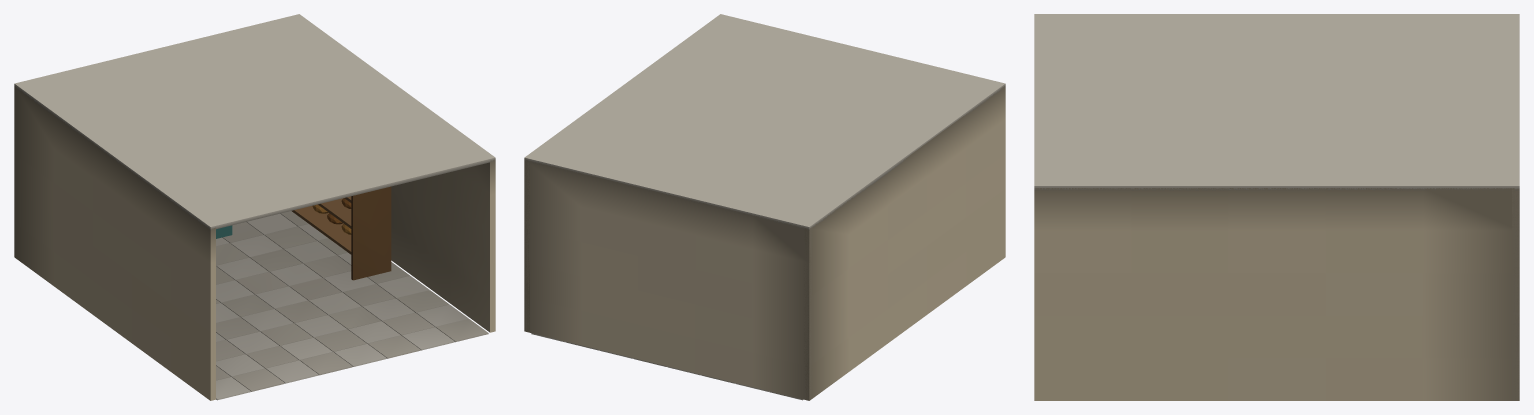
Rendered from store-room.glb.
The picture shows the model from 3 angles, left to right: view 1: azimuth 30°, elevation 25°; view 2: azimuth 150°, elevation 25°; view 3: azimuth 270°, elevation 25°; orthographic projection. The views are drawn at different scales.
Visible parts, largest first — view 1: store-room; view 2: store-room; view 3: store-room.
Part boxes in pixels (bbox=[...]): store-room: bbox=[14, 14, 495, 400]; store-room: bbox=[524, 14, 1005, 400]; store-room: bbox=[1034, 14, 1519, 400].
Bounding box in the file's own units: 5.2 × 3.08 × 6.2.
